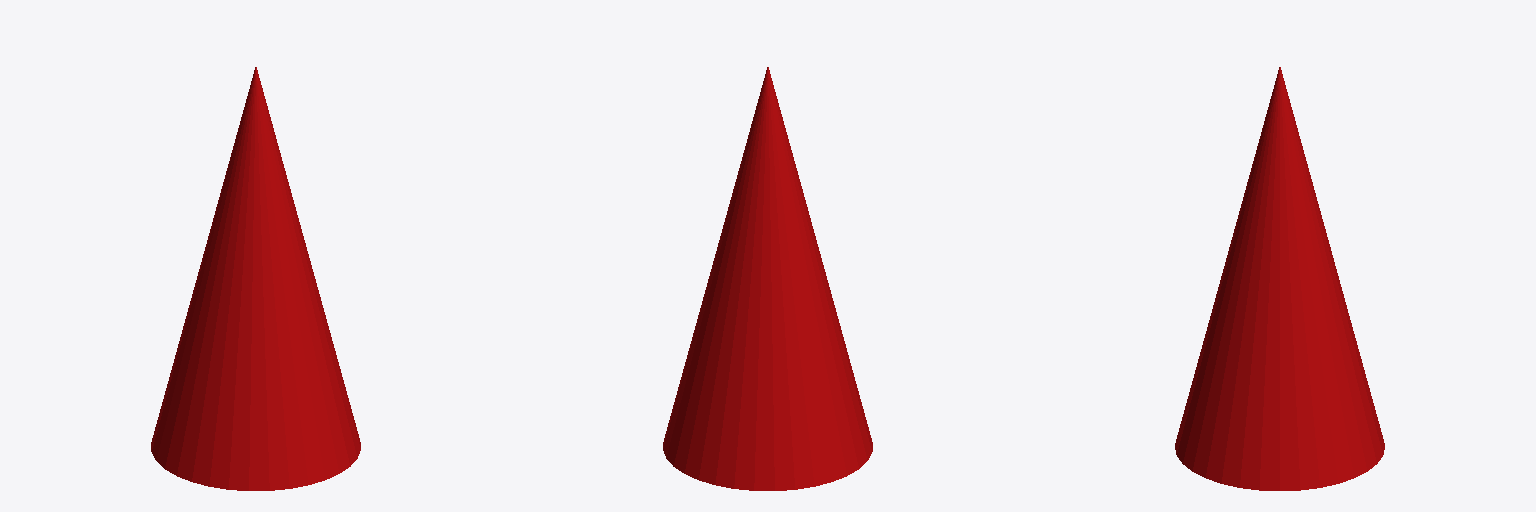
File: spikes.obj
3 renders of one model, left to right at view 1: azimuth 30°, elevation 25°; view 2: azimuth 150°, elevation 25°; view 3: azimuth 270°, elevation 25°, orthographic.
Parts seen in each view (by area): view 1: Cone; view 2: Cone; view 3: Cone.
Boxes of the visible parts, x1,y1,x2,y2 form: Cone: [151, 67, 360, 490]; Cone: [663, 67, 872, 490]; Cone: [1175, 67, 1384, 490].
Size of the model in its own units: 2 by 4 by 2.